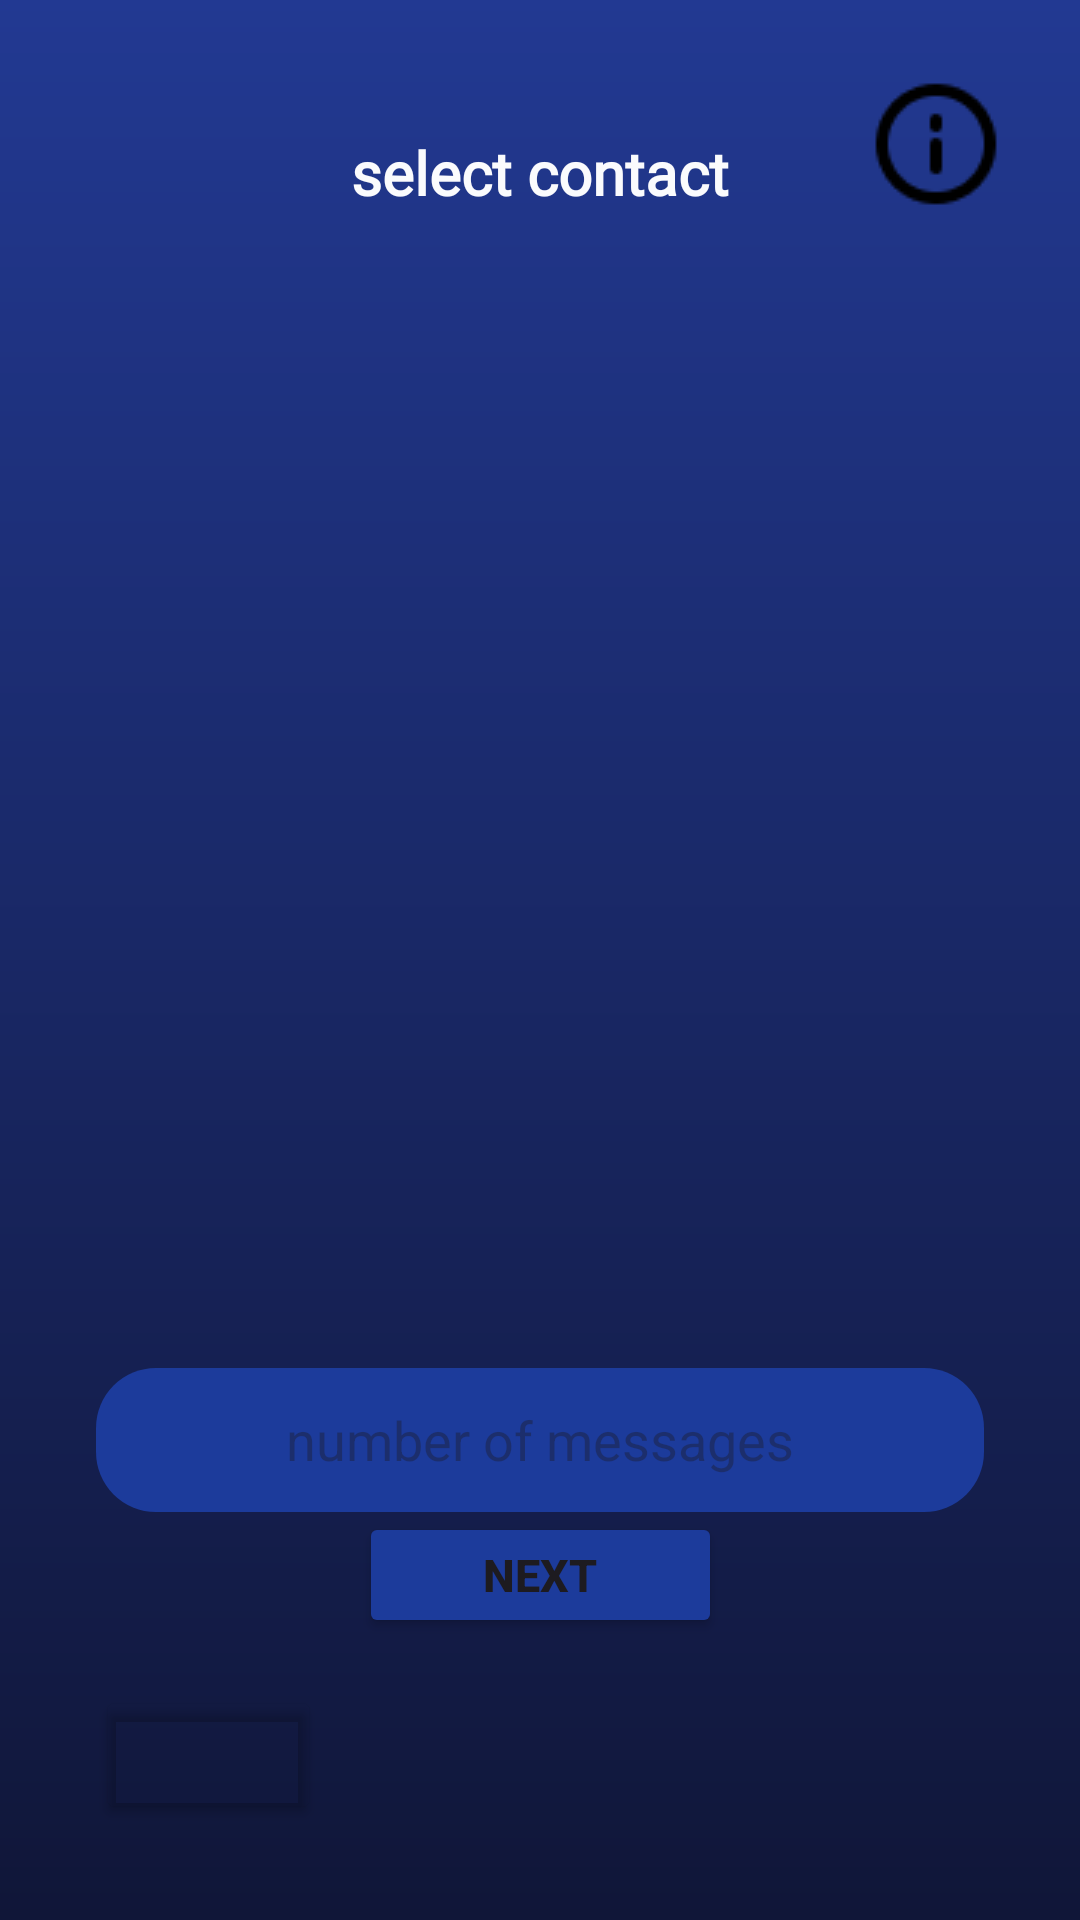

Screen size 1080×1920. Icon name, then its center in pixels as point (x, y):
info: point (936, 144)
